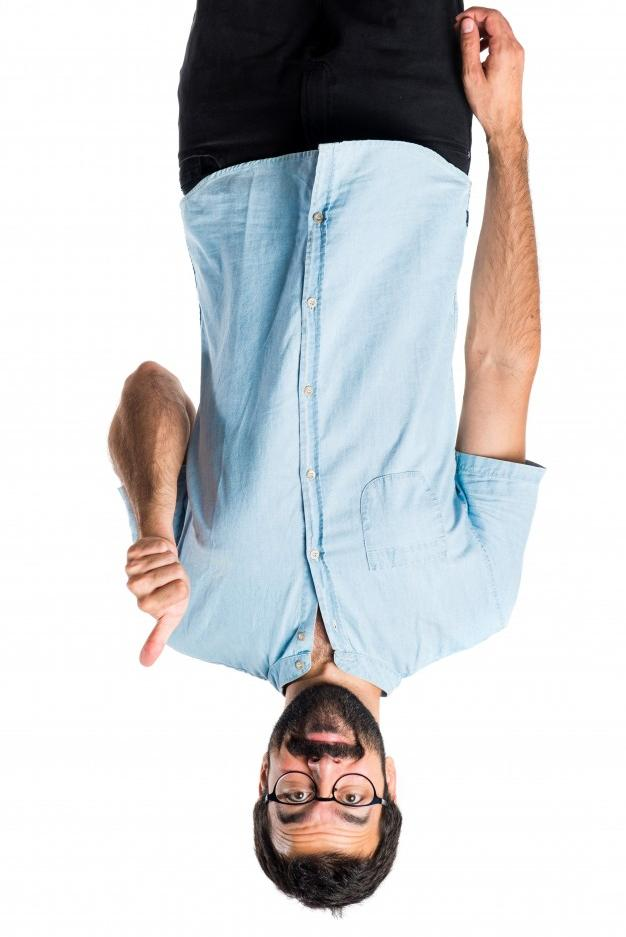thumbsdown: (126, 540, 189, 667)
